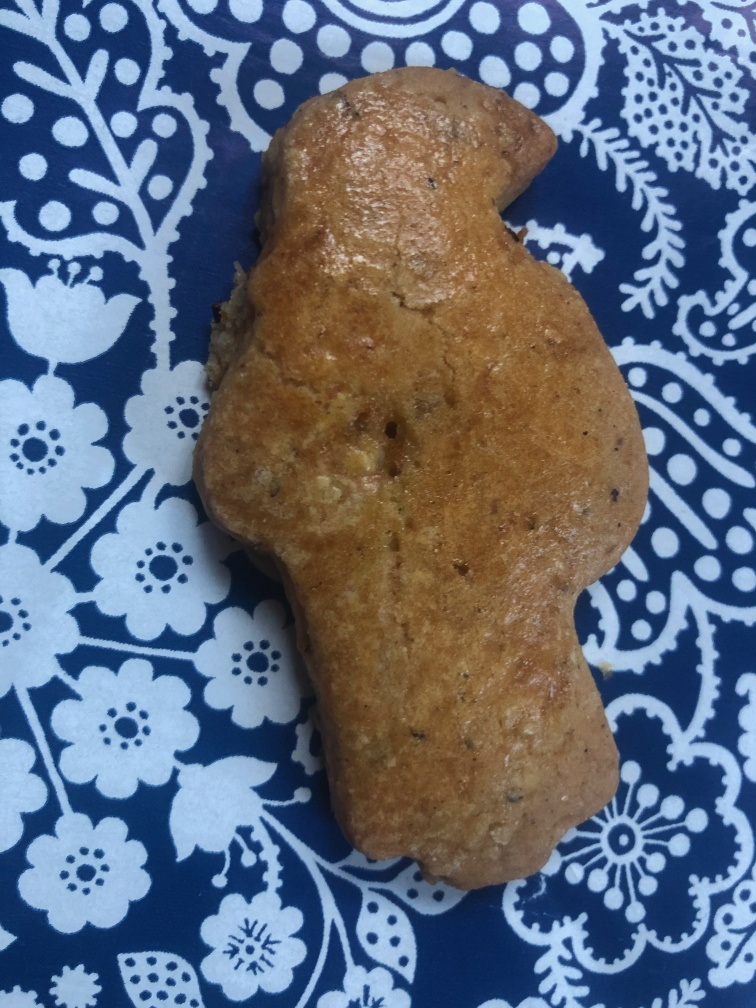santa claus: (188, 61, 665, 885)
